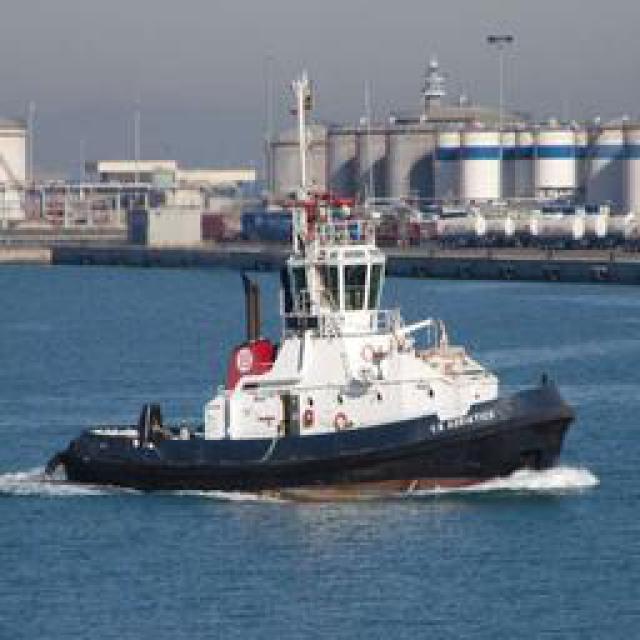Ship: (53, 221, 581, 499)
